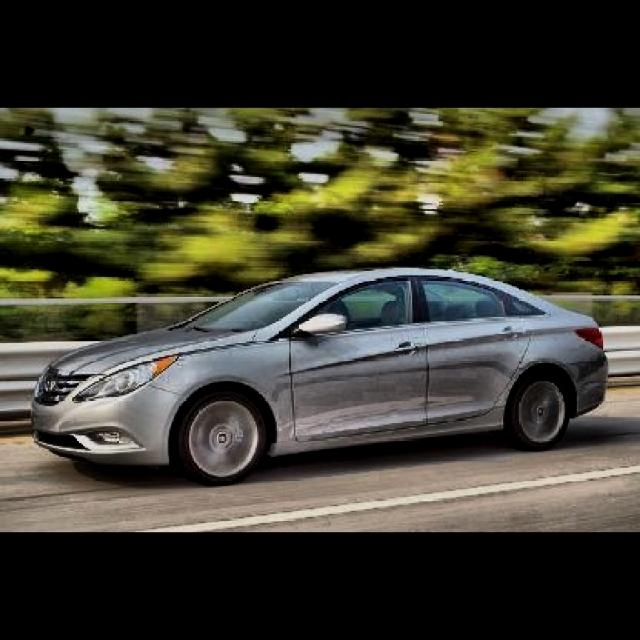silver: (34, 270, 608, 483)
